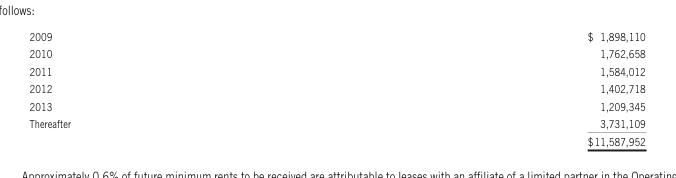table: (28, 29, 644, 147)
table column: (328, 29, 644, 147), (28, 29, 328, 147)
table row: (28, 44, 644, 62), (28, 96, 644, 114), (28, 62, 644, 79), (28, 79, 644, 96), (28, 114, 644, 131), (28, 131, 644, 147), (28, 29, 644, 44)
